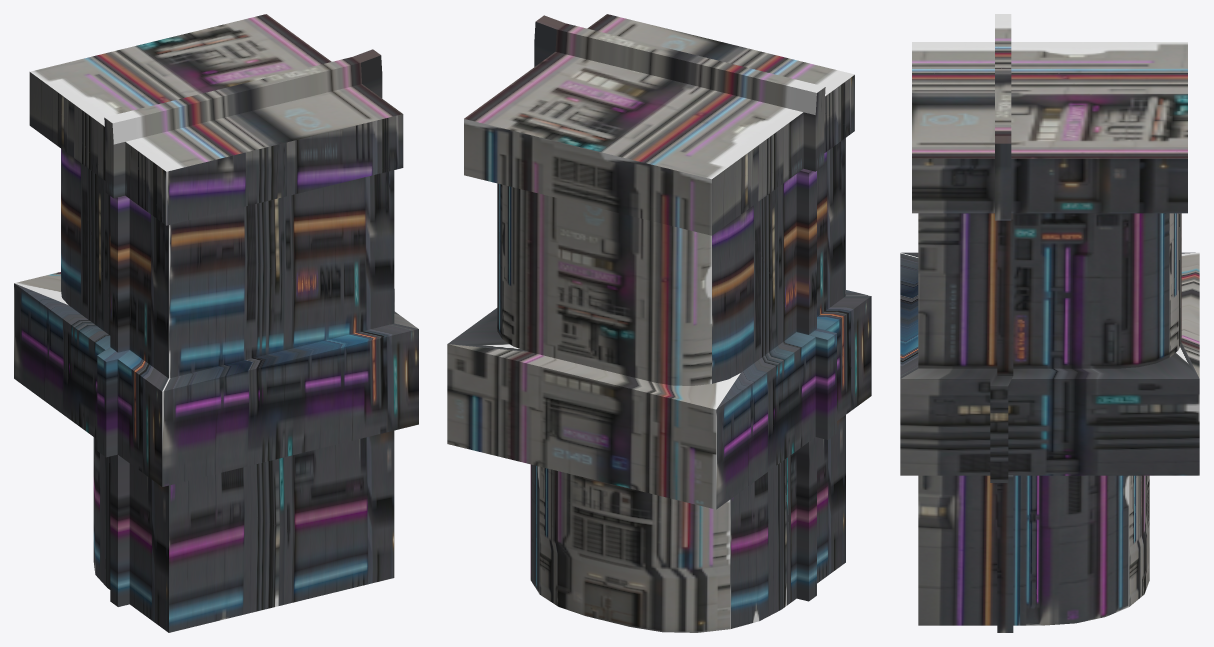
File: Predio1.glb
The picture shows the model from 3 angles, left to right: view 1: azimuth 30°, elevation 25°; view 2: azimuth 150°, elevation 25°; view 3: azimuth 270°, elevation 25°; orthographic projection. The views are drawn at different scales.
Parts seen in each view (by area): view 1: Cubo; view 2: Cubo; view 3: Cubo.
Part boxes in pixels (x1=…): Cubo: x1=14, y1=14, x2=418, y2=632; Cubo: x1=447, y1=14, x2=871, y2=632; Cubo: x1=900, y1=14, x2=1199, y2=632.
Bounding box in the file's own units: 2.56 × 4.14 × 2.28.
1 material, 1 textured.
